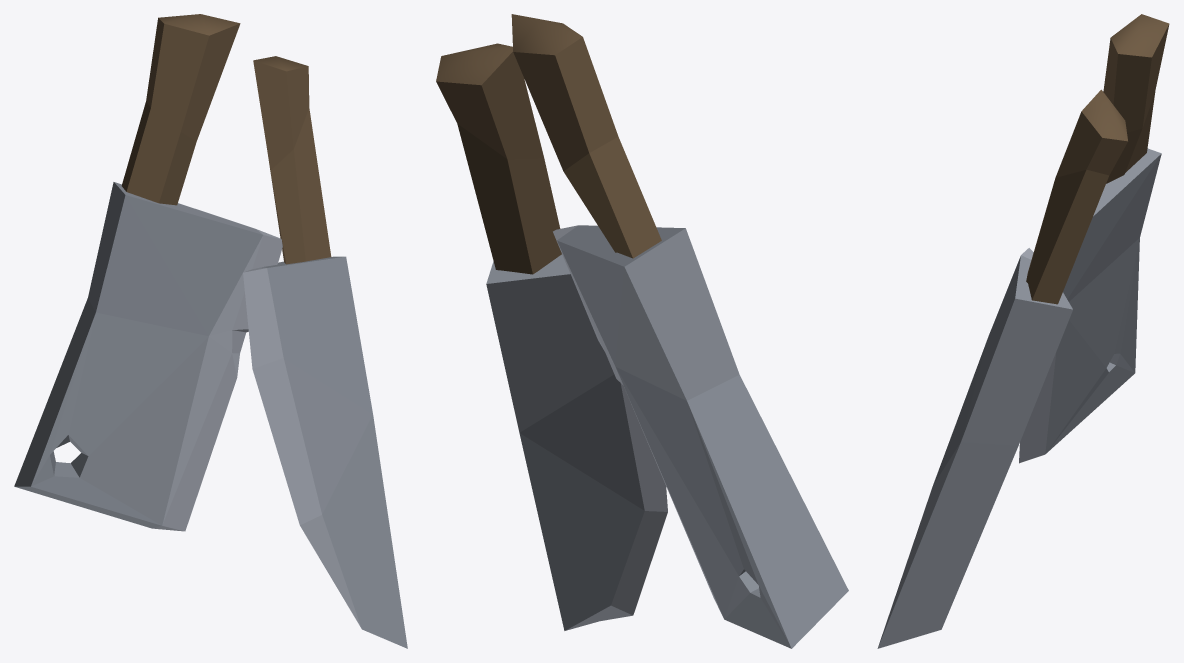
Rendered from SM_Chr_Attach_Knives_01.fbx.
3 renders of one model, left to right at view 1: azimuth 30°, elevation 25°; view 2: azimuth 150°, elevation 25°; view 3: azimuth 270°, elevation 25°, orthographic. The views are drawn at different scales.
Visible parts, largest first — view 1: SM_Chr_Attach_Knives_01; view 2: SM_Chr_Attach_Knives_01; view 3: SM_Chr_Attach_Knives_01.
Part boxes in pixels (bbox=[...]): SM_Chr_Attach_Knives_01: bbox=[14, 14, 407, 648]; SM_Chr_Attach_Knives_01: bbox=[436, 14, 848, 648]; SM_Chr_Attach_Knives_01: bbox=[877, 14, 1169, 648].
Bounding box in the file's own units: 19.65 × 36.18 × 16.53.
